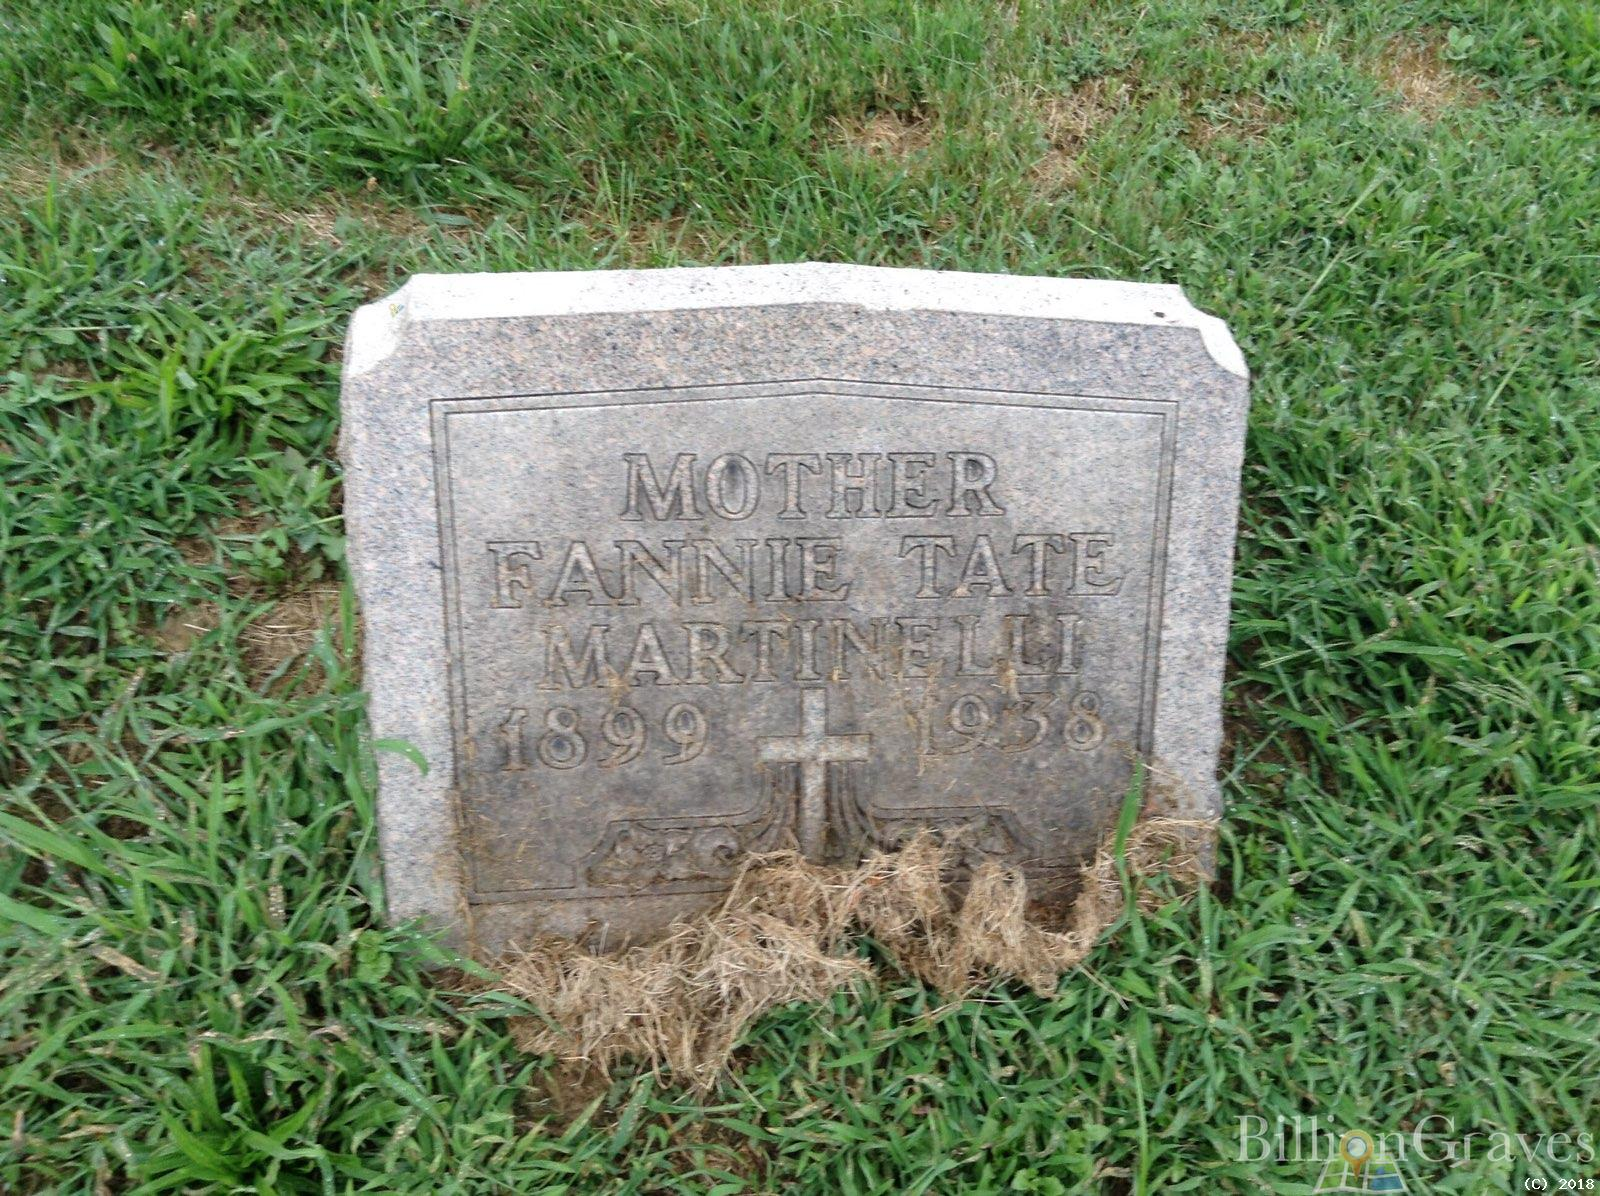upright: (284, 235, 1312, 1008)
